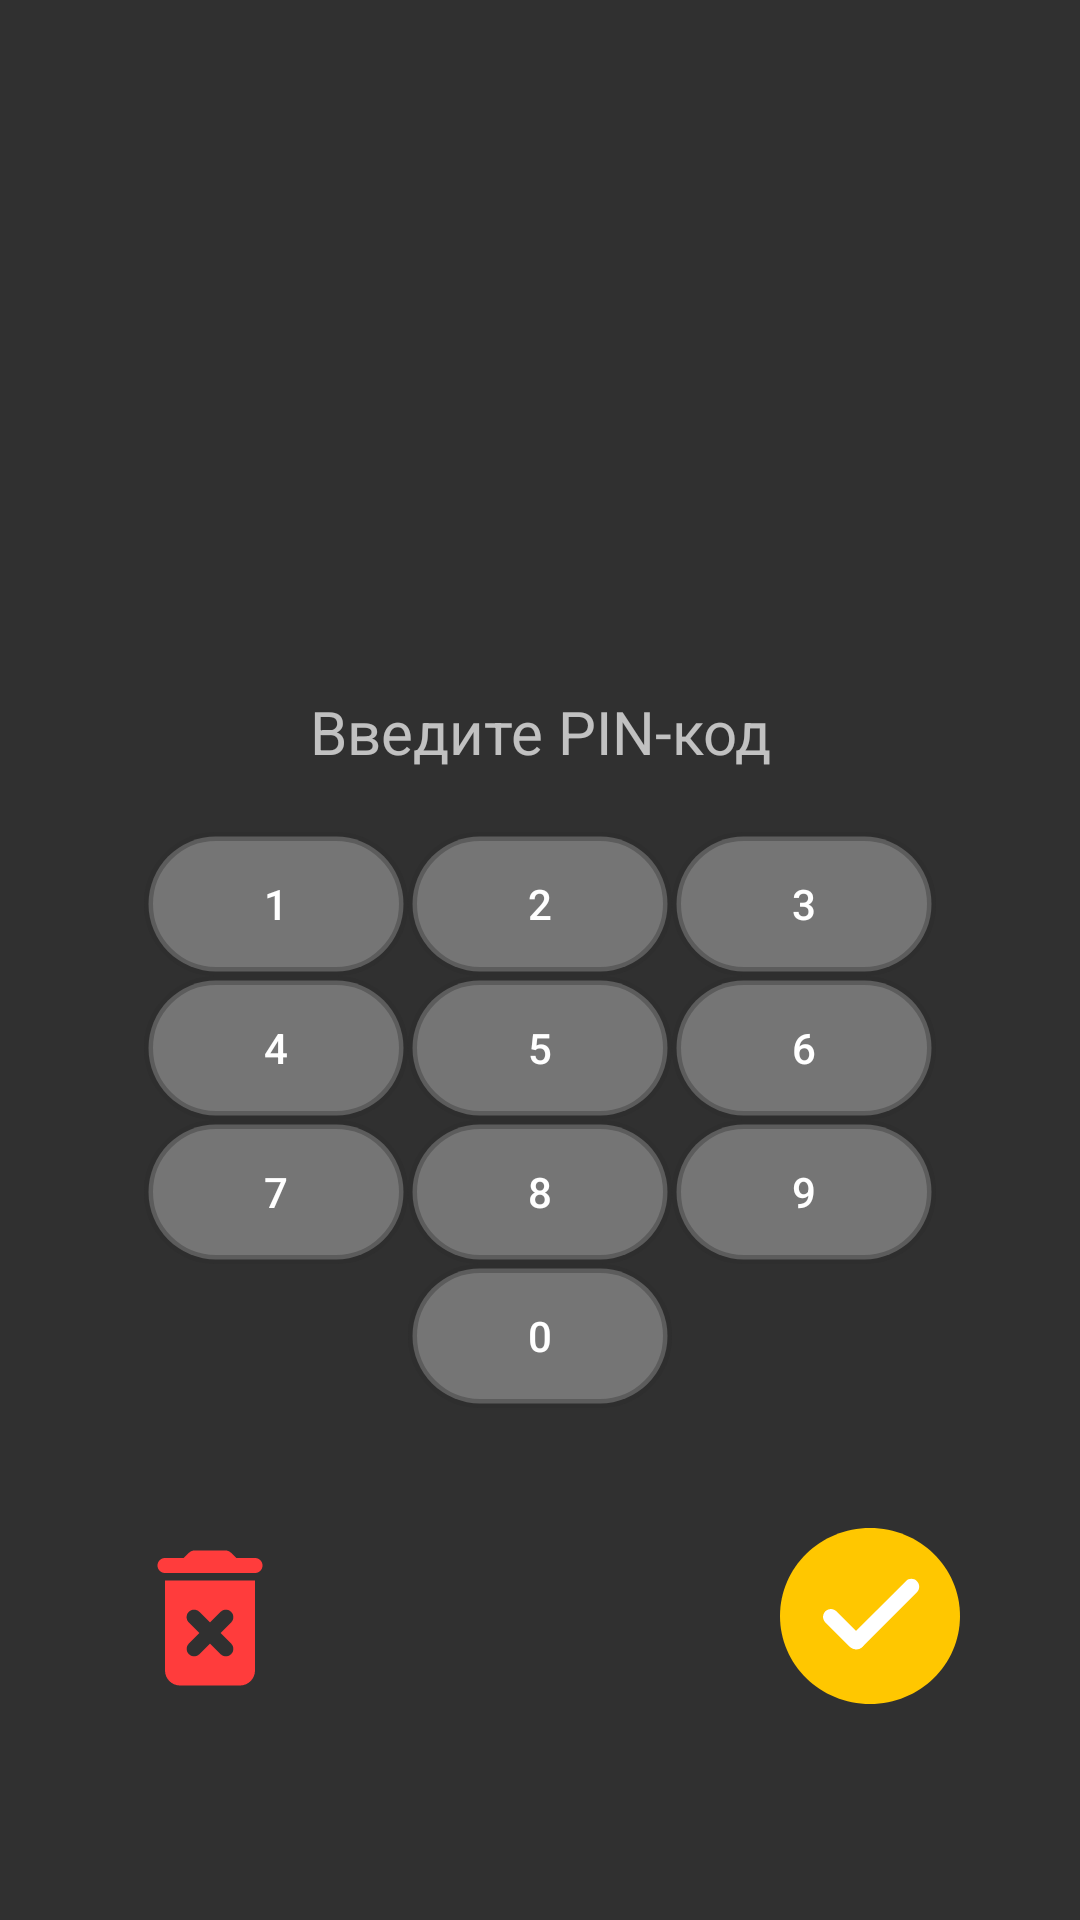

Icon click points for this 1080x1920 phone screenshot, format (x=x, y=y):
check: (x=870, y=1616)
delete: (x=210, y=1618)
